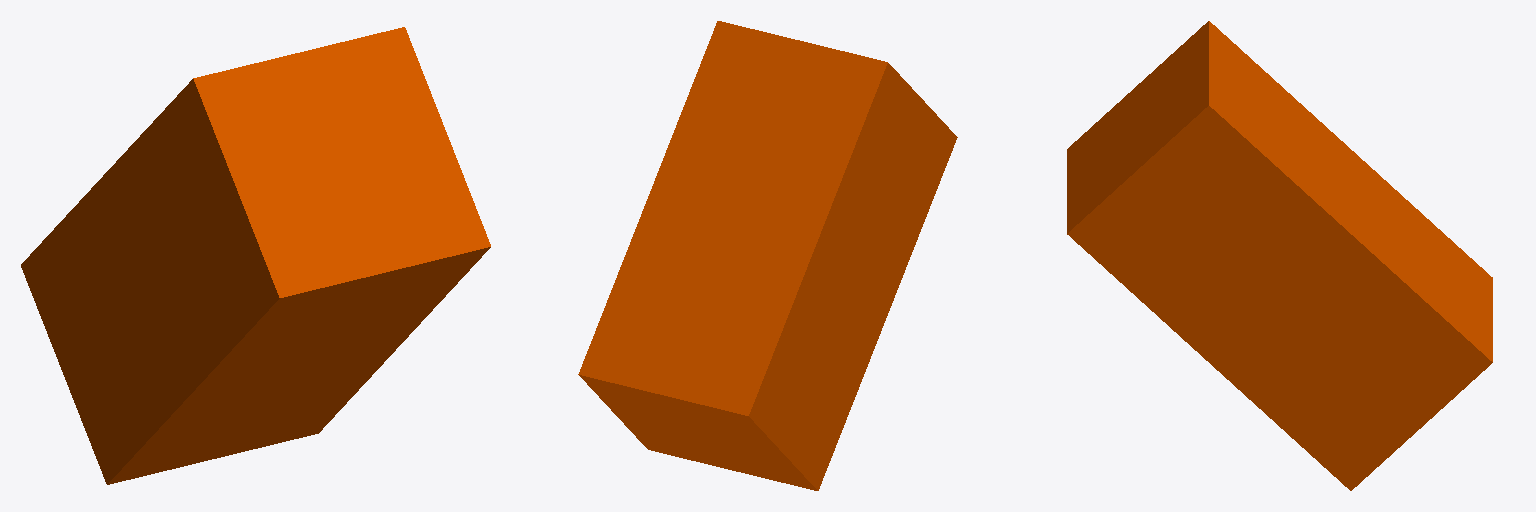
The robot description file, URDF, robot "panda":
<?xml version="1.0" ?>
<robot name="panda" version="1.0">
   <link name="panda_link0">
      <visual>
         <geometry>
            <mesh filename="package://franka_description/meshes/visual/link0.dae"/>
         </geometry>
      </visual>
      <collision>
         <geometry>
            <mesh filename="package://franka_description/meshes/collision/link0.stl"/>
         </geometry>
      </collision>
   </link>
   <link name="panda_link1">
      <visual>
         <geometry>
            <mesh filename="package://franka_description/meshes/visual/link1.dae"/>
         </geometry>
      </visual>
      <collision>
         <geometry>
            <mesh filename="package://franka_description/meshes/collision/link1.stl"/>
         </geometry>
      </collision>
   </link>
   <joint name="panda_joint1" type="revolute">
      <origin xyz="0.0 0.0 0.333" rpy="0.0 0.0 0.0"/>
      <axis xyz="0.0 0.0 1.0"/>
      <parent link="panda_link0"/>
      <child link="panda_link1"/>
      <limit effort="87.0" lower="-2.8973" upper="2.8973" velocity="2.175"/>
      <safety_controller k_velocity="40.0" k_position="100.0" soft_lower_limit="-2.8973" soft_upper_limit="2.8973"/>
   </joint>
   <link name="panda_link2">
      <visual>
         <geometry>
            <mesh filename="package://franka_description/meshes/visual/link2.dae"/>
         </geometry>
      </visual>
      <collision>
         <geometry>
            <mesh filename="package://franka_description/meshes/collision/link2.stl"/>
         </geometry>
      </collision>
   </link>
   <joint name="panda_joint2" type="revolute">
      <origin xyz="0.0 0.0 0.0" rpy="-1.57079632679 0.0 0.0"/>
      <axis xyz="0.0 0.0 1.0"/>
      <parent link="panda_link1"/>
      <child link="panda_link2"/>
      <limit effort="87.0" lower="-1.7628" upper="1.7628" velocity="2.175"/>
      <safety_controller k_velocity="40.0" k_position="100.0" soft_lower_limit="-1.7628" soft_upper_limit="1.7628"/>
   </joint>
   <link name="panda_link3">
      <visual>
         <geometry>
            <mesh filename="package://franka_description/meshes/visual/link3.dae"/>
         </geometry>
      </visual>
      <collision>
         <geometry>
            <mesh filename="package://franka_description/meshes/collision/link3.stl"/>
         </geometry>
      </collision>
   </link>
   <joint name="panda_joint3" type="revolute">
      <origin xyz="0.0 -0.316 0.0" rpy="1.57079632679 0.0 0.0"/>
      <axis xyz="0.0 0.0 1.0"/>
      <parent link="panda_link2"/>
      <child link="panda_link3"/>
      <limit effort="87.0" lower="-2.8973" upper="2.8973" velocity="2.175"/>
      <safety_controller k_velocity="40.0" k_position="100.0" soft_lower_limit="-2.8973" soft_upper_limit="2.8973"/>
   </joint>
   <link name="panda_link4">
      <visual>
         <geometry>
            <mesh filename="package://franka_description/meshes/visual/link4.dae"/>
         </geometry>
      </visual>
      <collision>
         <geometry>
            <mesh filename="package://franka_description/meshes/collision/link4.stl"/>
         </geometry>
      </collision>
   </link>
   <joint name="panda_joint4" type="revolute">
      <origin xyz="0.0825 0.0 0.0" rpy="1.57079632679 0.0 0.0"/>
      <axis xyz="0.0 0.0 1.0"/>
      <parent link="panda_link3"/>
      <child link="panda_link4"/>
      <limit effort="87.0" lower="-3.0718" upper="-0.0698" velocity="2.175"/>
      <safety_controller k_velocity="40.0" k_position="100.0" soft_lower_limit="-3.0718" soft_upper_limit="-0.0698"/>
   </joint>
   <link name="panda_link5">
      <visual>
         <geometry>
            <mesh filename="package://franka_description/meshes/visual/link5.dae"/>
         </geometry>
      </visual>
      <collision>
         <geometry>
            <mesh filename="package://franka_description/meshes/collision/link5.stl"/>
         </geometry>
      </collision>
   </link>
   <joint name="panda_joint5" type="revolute">
      <origin xyz="-0.0825 0.384 0.0" rpy="-1.57079632679 0.0 0.0"/>
      <axis xyz="0.0 0.0 1.0"/>
      <parent link="panda_link4"/>
      <child link="panda_link5"/>
      <limit effort="12.0" lower="-2.8973" upper="2.8973" velocity="2.61"/>
      <safety_controller k_velocity="40.0" k_position="100.0" soft_lower_limit="-2.8973" soft_upper_limit="2.8973"/>
   </joint>
   <link name="panda_link6">
      <visual>
         <geometry>
            <mesh filename="package://franka_description/meshes/visual/link6.dae"/>
         </geometry>
      </visual>
      <collision>
         <geometry>
            <mesh filename="package://franka_description/meshes/collision/link6.stl"/>
         </geometry>
      </collision>
   </link>
   <joint name="panda_joint6" type="revolute">
      <origin xyz="0.0 0.0 0.0" rpy="1.57079632679 0.0 0.0"/>
      <axis xyz="0.0 0.0 1.0"/>
      <parent link="panda_link5"/>
      <child link="panda_link6"/>
      <limit effort="12.0" lower="-0.0175" upper="3.7525" velocity="2.61"/>
      <safety_controller k_velocity="40.0" k_position="100.0" soft_lower_limit="-0.0175" soft_upper_limit="3.7525"/>
   </joint>
   <link name="panda_link7">
      <visual>
         <geometry>
            <mesh filename="package://franka_description/meshes/visual/link7.dae"/>
         </geometry>
      </visual>
      <collision>
         <geometry>
            <mesh filename="package://franka_description/meshes/collision/link7.stl"/>
         </geometry>
      </collision>
   </link>
   <joint name="panda_joint7" type="revolute">
      <origin xyz="0.088 0.0 0.0" rpy="1.57079632679 0.0 0.0"/>
      <axis xyz="0.0 0.0 1.0"/>
      <parent link="panda_link6"/>
      <child link="panda_link7"/>
      <limit effort="12.0" lower="-2.8973" upper="2.8973" velocity="2.61"/>
      <safety_controller k_velocity="40.0" k_position="100.0" soft_lower_limit="-2.8973" soft_upper_limit="2.8973"/>
   </joint>
   <link name="panda_link8"/>
   <joint name="panda_joint8" type="fixed">
      <origin xyz="0.0 0.0 0.107" rpy="0.0 0.0 0.0"/>
      <axis xyz="0.0 0.0 0.0"/>
      <parent link="panda_link7"/>
      <child link="panda_link8"/>
   </joint>
   <joint name="panda_hand_joint" type="fixed">
      <origin xyz="0.0 0.0 0.0" rpy="0.0 0.0 -0.785398163397"/>
      <parent link="panda_link8"/>
      <child link="panda_hand"/>
   </joint>
   <link name="panda_hand">
      <visual>
         <geometry>
            <mesh filename="package://franka_description/meshes/visual/hand.dae"/>
         </geometry>
      </visual>
      <collision>
         <geometry>
            <mesh filename="package://franka_description/meshes/collision/hand.stl"/>
         </geometry>
      </collision>
   </link>
   <link name="panda_leftfinger">
      <visual>
         <geometry>
            <mesh filename="package://franka_description/meshes/visual/finger.dae"/>
         </geometry>
      </visual>
      <collision>
         <geometry>
            <mesh filename="package://franka_description/meshes/collision/finger.stl"/>
         </geometry>
      </collision>
   </link>
   <link name="panda_rightfinger">
      <visual>
         <origin xyz="0.0 0.0 0.0" rpy="0.0 0.0 3.14159265359"/>
         <geometry>
            <mesh filename="package://franka_description/meshes/visual/finger.dae"/>
         </geometry>
      </visual>
      <collision>
         <origin xyz="0.0 0.0 0.0" rpy="0.0 0.0 3.14159265359"/>
         <geometry>
            <mesh filename="package://franka_description/meshes/collision/finger.stl"/>
         </geometry>
      </collision>
   </link>
   <joint name="panda_finger_joint1" type="fixed">
      <origin xyz="0.0 0.04 0.0584" rpy="0.0 0.0 0.0"/>
      <axis xyz="0.0 1.0 0.0"/>
      <parent link="panda_hand"/>
      <child link="panda_leftfinger"/>
      <limit effort="20.0" lower="0.0" upper="0.04" velocity="0.2"/>
   </joint>
   <joint name="panda_finger_joint2" type="fixed">
      <origin xyz="0.0 -0.04 0.0584" rpy="0.0 0.0 0.0"/>
      <axis xyz="0.0 -1.0 0.0"/>
      <parent link="panda_hand"/>
      <child link="panda_rightfinger"/>
      <limit effort="20.0" lower="0.0" upper="0.04" velocity="0.2"/>
      <mimic joint="panda_finger_joint1"/>
   </joint>
   <link name="tool_link"/>
   <joint name="tool_joint" type="fixed">
      <origin xyz="0.0 0.0 0.1" rpy="0.0 0.0 2.35619449019"/>
      <axis xyz="0.0 0.0 1.0"/>
      <parent link="panda_link8"/>
      <child link="tool_link"/>
   </joint>
   <joint name="joint_fixed_GraspedObjectBox" type="fixed">
      <origin xyz="0.0 0.0 0.11" rpy="0.0 -1.5704511 0.0"/>
      <parent link="panda_hand"/>
      <child link="link_GraspedObjectBox"/>
   </joint>
   <link name="link_GraspedObjectBox">
      <origin xyz="0.0 0.0 0.0" rpy="0.0 0.0 0.0"/>
      <visual>
         <geometry>
            <box size="0.05 0.05 0.1"/>
         </geometry>
      </visual>
      <collision>
         <geometry>
            <box size="0.05 0.05 0.1"/>
         </geometry>
      </collision>
   </link>
   <joint name="joint_fixed_GraspedObjectBox_point_0" type="fixed">
      <origin xyz="0.025 0.025 -0.05" rpy="0 0 0"/>
      <parent link="link_GraspedObjectBox"/>
      <child link="link_GraspedObjectBox_point_0"/>
   </joint>
   <link name="link_GraspedObjectBox_point_0">
      <origin xyz="0.0 0.0 0.0" rpy="0.0 0.0 0.0"/>
   </link>
   <joint name="joint_fixed_GraspedObjectBox_point_1" type="fixed">
      <origin xyz="0.025 -0.025 -0.05" rpy="0 0 0"/>
      <parent link="link_GraspedObjectBox"/>
      <child link="link_GraspedObjectBox_point_1"/>
   </joint>
   <link name="link_GraspedObjectBox_point_1">
      <origin xyz="0.0 0.0 0.0" rpy="0.0 0.0 0.0"/>
   </link>
   <joint name="joint_fixed_GraspedObjectBox_point_2" type="fixed">
      <origin xyz="-0.025 -0.025 -0.05" rpy="0 0 0"/>
      <parent link="link_GraspedObjectBox"/>
      <child link="link_GraspedObjectBox_point_2"/>
   </joint>
   <link name="link_GraspedObjectBox_point_2">
      <origin xyz="0.0 0.0 0.0" rpy="0.0 0.0 0.0"/>
   </link>
   <joint name="joint_fixed_GraspedObjectBox_point_3" type="fixed">
      <origin xyz="-0.025 0.025 -0.05" rpy="0 0 0"/>
      <parent link="link_GraspedObjectBox"/>
      <child link="link_GraspedObjectBox_point_3"/>
   </joint>
   <link name="link_GraspedObjectBox_point_3">
      <origin xyz="0.0 0.0 0.0" rpy="0.0 0.0 0.0"/>
   </link>
   <joint name="joint_fixed_GraspedObjectBox_point_4" type="fixed">
      <origin xyz="0.025 0.025 0.05" rpy="0 0 0"/>
      <parent link="link_GraspedObjectBox"/>
      <child link="link_GraspedObjectBox_point_4"/>
   </joint>
   <link name="link_GraspedObjectBox_point_4">
      <origin xyz="0.0 0.0 0.0" rpy="0.0 0.0 0.0"/>
   </link>
   <joint name="joint_fixed_GraspedObjectBox_point_5" type="fixed">
      <origin xyz="0.025 -0.025 0.05" rpy="0 0 0"/>
      <parent link="link_GraspedObjectBox"/>
      <child link="link_GraspedObjectBox_point_5"/>
   </joint>
   <link name="link_GraspedObjectBox_point_5">
      <origin xyz="0.0 0.0 0.0" rpy="0.0 0.0 0.0"/>
   </link>
   <joint name="joint_fixed_GraspedObjectBox_point_6" type="fixed">
      <origin xyz="-0.025 -0.025 0.05" rpy="0 0 0"/>
      <parent link="link_GraspedObjectBox"/>
      <child link="link_GraspedObjectBox_point_6"/>
   </joint>
   <link name="link_GraspedObjectBox_point_6">
      <origin xyz="0.0 0.0 0.0" rpy="0.0 0.0 0.0"/>
   </link>
   <joint name="joint_fixed_GraspedObjectBox_point_7" type="fixed">
      <origin xyz="-0.025 0.025 0.05" rpy="0 0 0"/>
      <parent link="link_GraspedObjectBox"/>
      <child link="link_GraspedObjectBox_point_7"/>
   </joint>
   <link name="link_GraspedObjectBox_point_7">
      <origin xyz="0.0 0.0 0.0" rpy="0.0 0.0 0.0"/>
   </link>
   <joint name="joint_fixed_GraspedObjectBox_point_8" type="fixed">
      <origin xyz="0.025 0.0 0.0" rpy="0 0 0"/>
      <parent link="link_GraspedObjectBox"/>
      <child link="link_GraspedObjectBox_point_8"/>
   </joint>
   <link name="link_GraspedObjectBox_point_8">
      <origin xyz="0.0 0.0 0.0" rpy="0.0 0.0 0.0"/>
   </link>
   <joint name="joint_fixed_GraspedObjectBox_point_9" type="fixed">
      <origin xyz="0.0 -0.025 0.0" rpy="0 0 0"/>
      <parent link="link_GraspedObjectBox"/>
      <child link="link_GraspedObjectBox_point_9"/>
   </joint>
   <link name="link_GraspedObjectBox_point_9">
      <origin xyz="0.0 0.0 0.0" rpy="0.0 0.0 0.0"/>
   </link>
   <joint name="joint_fixed_GraspedObjectBox_point_10" type="fixed">
      <origin xyz="-0.025 0.0 0.0" rpy="0 0 0"/>
      <parent link="link_GraspedObjectBox"/>
      <child link="link_GraspedObjectBox_point_10"/>
   </joint>
   <link name="link_GraspedObjectBox_point_10">
      <origin xyz="0.0 0.0 0.0" rpy="0.0 0.0 0.0"/>
   </link>
   <joint name="joint_fixed_GraspedObjectBox_point_11" type="fixed">
      <origin xyz="0.0 0.025 0.0" rpy="0 0 0"/>
      <parent link="link_GraspedObjectBox"/>
      <child link="link_GraspedObjectBox_point_11"/>
   </joint>
   <link name="link_GraspedObjectBox_point_11">
      <origin xyz="0.0 0.0 0.0" rpy="0.0 0.0 0.0"/>
   </link>
   <joint name="joint_fixed_GraspedObjectBox_point_12" type="fixed">
      <origin xyz="0.0 0.0 0.05" rpy="0 0 0"/>
      <parent link="link_GraspedObjectBox"/>
      <child link="link_GraspedObjectBox_point_12"/>
   </joint>
   <link name="link_GraspedObjectBox_point_12">
      <origin xyz="0.0 0.0 0.0" rpy="0.0 0.0 0.0"/>
   </link>
   <joint name="joint_fixed_GraspedObjectBox_point_13" type="fixed">
      <origin xyz="0.0 0.0 -0.05" rpy="0 0 0"/>
      <parent link="link_GraspedObjectBox"/>
      <child link="link_GraspedObjectBox_point_13"/>
   </joint>
   <link name="link_GraspedObjectBox_point_13">
      <origin xyz="0.0 0.0 0.0" rpy="0.0 0.0 0.0"/>
   </link>
</robot>

--- What the picture shows (computed from the rendered views, not written in the file) ---
Views: 3 orthographic renders of the robot side by side, from view 1: azimuth 30°, elevation 25°; view 2: azimuth 150°, elevation 25°; view 3: azimuth 270°, elevation 25°.
Model panda with 28 links and 27 joints (7 revolute, 20 fixed), rooted at panda_link0, posed joints at zero except 1 at the middle of their limits (panda_joint4 = -1.57).
Visible links, largest first — view 1: link_GraspedObjectBox; view 2: link_GraspedObjectBox; view 3: link_GraspedObjectBox.
Boxes of the visible links, x1=… form: link_GraspedObjectBox: x1=21, y1=27, x2=490, y2=484; link_GraspedObjectBox: x1=578, y1=21, x2=957, y2=490; link_GraspedObjectBox: x1=1067, y1=21, x2=1492, y2=490.
Bounding box of the posed robot: 0.05 × 0.1061 × 0.1061 m (x, y, z).
Meshes: 10 distinct files referenced, 0 mesh visuals loaded (none loaded); not drawn: 11 (reference not matched to a file when rendering).